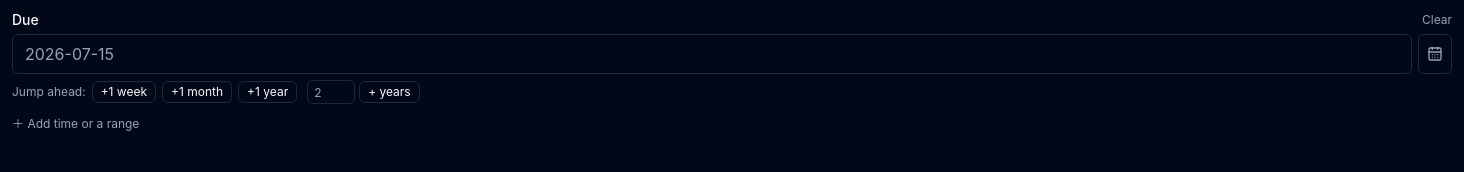
it: DueFieldset › jumps the due date a month ahead from an existing date (#986)
Click the button "+1 month".
click(197, 92)  # box [162,81,232,103]
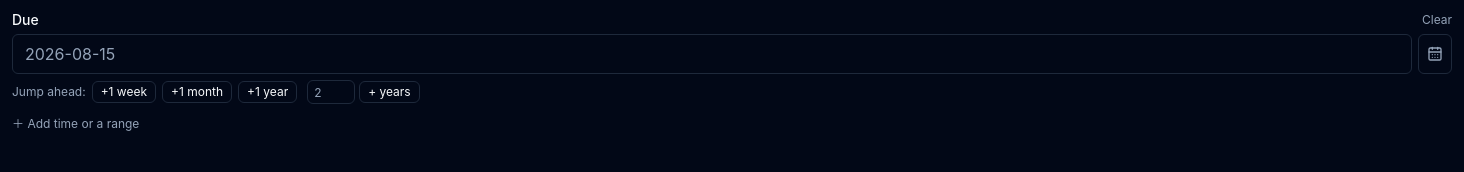
Expected: the field labelled "Due" holds "2026-08-15", [12,34,1412,74]
